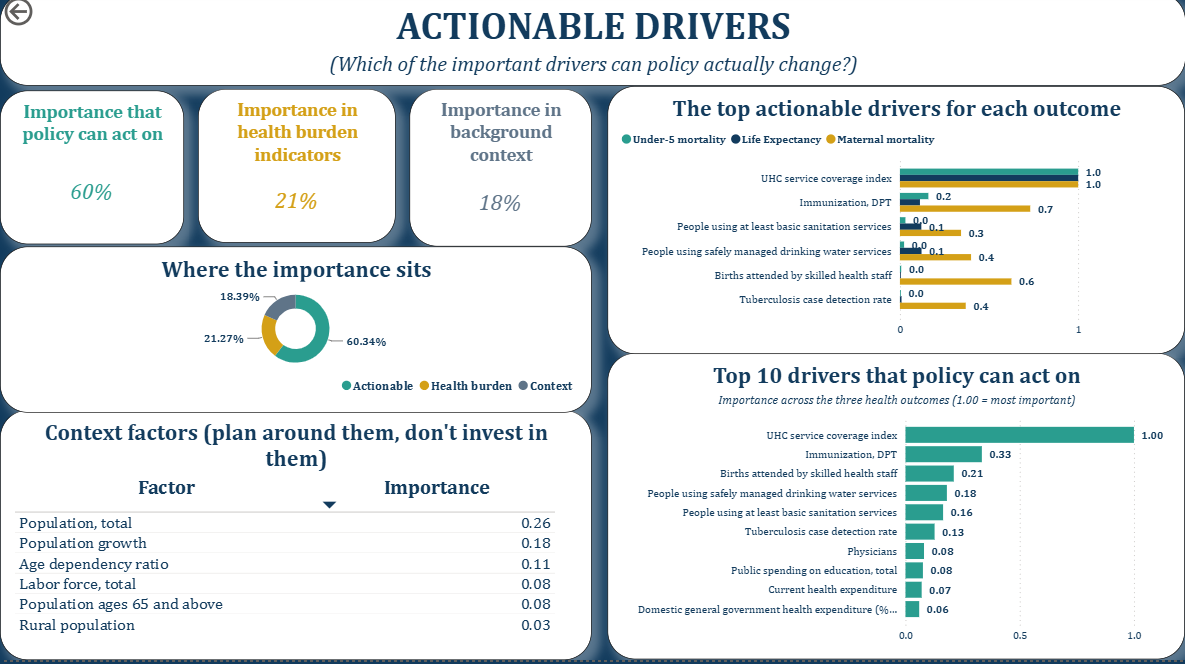

What the dashboard file says about the page in this screenshot:
{"tool":"powerbi","page":{"name":"Actionable Drivers","canvas":[1280,720],"ordinal":4},"visuals":[{"type":"cardVisual","title":"Importance in health burden indicators","fields":{"Data":["driver_classification.Burden Share Text"]},"box":[213.5,103.9,213.5,166.3],"z":0},{"type":"cardVisual","title":"Importance in background context","fields":{"Data":["driver_classification.Context Share Text"]},"box":[442.2,103.9,196.5,170.1],"z":1000},{"type":"clusteredBarChart","title":"Top 10 drivers that policy can act on","fields":{"Category":["driver_classification.Short_Name"],"Y":["Sum(driver_classification.Policy_Priority_Index)"]},"box":[655.8,389.3,623.6,330.7],"z":2000},{"type":"tableEx","title":"Context factors (plan around them, don''t invest in them)","fields":{"Values":["driver_classification.Short_Name","Sum(driver_classification.Policy_Priority_Index)"]},"box":[0,449.8,638.7,270.2],"z":3000},{"type":"textbox","title":"ACTIONABLE DRIVERS","box":[0,0,1280,100],"z":4000},{"type":"cardVisual","title":"Importance that policy can act on","fields":{"Data":["driver_classification.Actionable Share Text"]},"box":[0,105.8,198.4,166.3],"z":5000},{"type":"donutChart","title":"Where the importance sits","fields":{"Category":["driver_classification.Driver_Type"],"Y":["Sum(driver_classification.Policy_Priority_Index)"]},"box":[0,274,638.7,179.5],"z":6000},{"type":"clusteredBarChart","title":"The top actionable drivers for each outcome","fields":{"Category":["driver_classification.Short_Name"],"Y":["Sum(driver_classification.U5_norm)","Sum(driver_classification.Life_norm)","Sum(driver_classification.Maternal_norm)"]},"box":[655.8,100.2,623.6,289.1],"z":7000},{"type":"actionButton","box":[0,0,100,40],"z":8000}]}

Visuals, with their boxes in screenshot pixels (x1, y1, x2, y2), scaled from the page's 1280x720 canvas onto the 1185x664 screenshot:
"Importance in health burden indicators" cardVisual: [left=198, top=96, right=395, bottom=249]
"Importance in background context" cardVisual: [left=409, top=96, right=591, bottom=253]
"Top 10 drivers that policy can act on" clusteredBarChart: [left=607, top=359, right=1184, bottom=663]
"Context factors (plan around them, don''t invest in them)" tableEx: [left=0, top=415, right=591, bottom=663]
"ACTIONABLE DRIVERS" textbox: [left=0, top=0, right=1184, bottom=92]
"Importance that policy can act on" cardVisual: [left=0, top=98, right=184, bottom=251]
"Where the importance sits" donutChart: [left=0, top=253, right=591, bottom=418]
"The top actionable drivers for each outcome" clusteredBarChart: [left=607, top=92, right=1184, bottom=359]
actionButton: [left=0, top=0, right=93, bottom=37]
